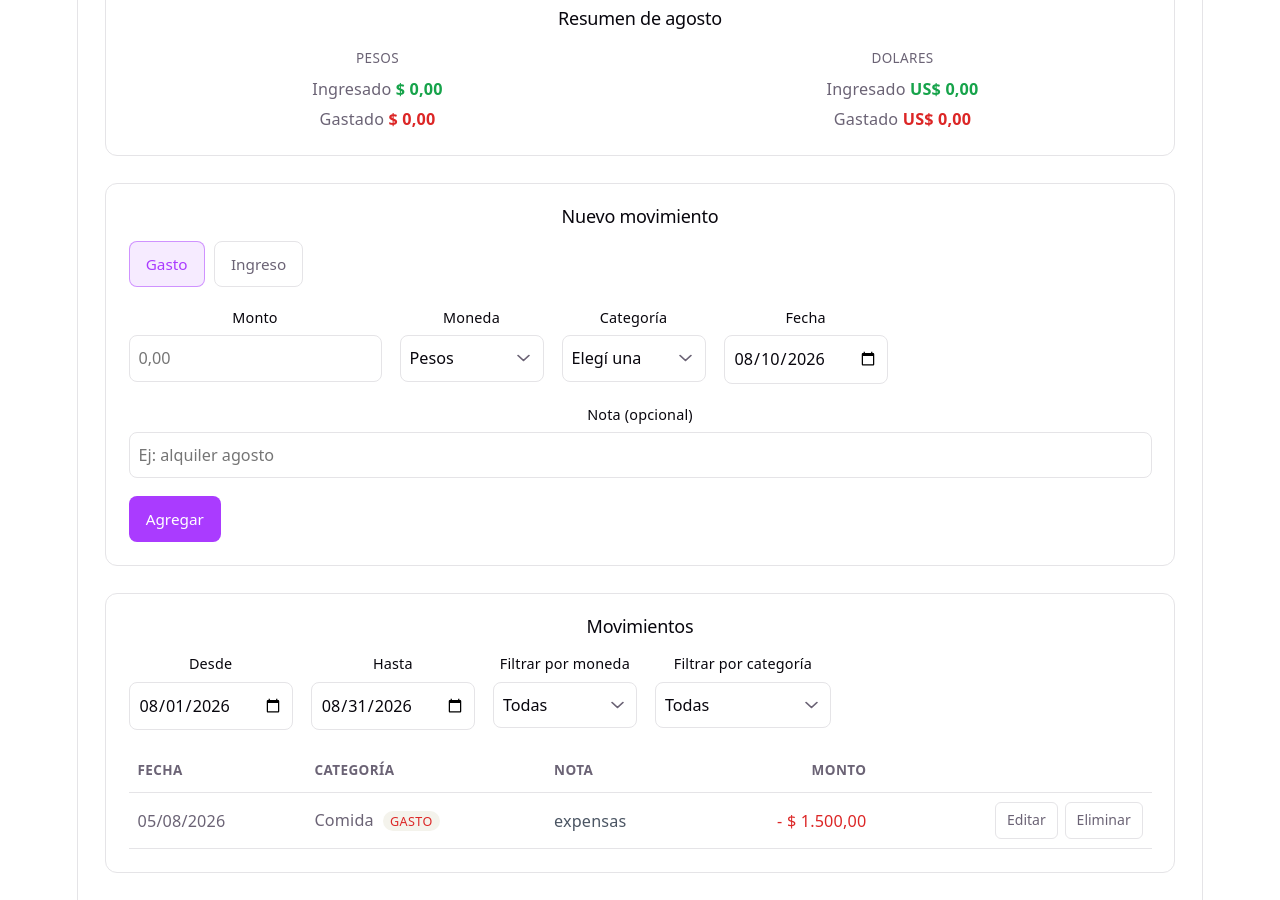
Test case: nota del movimiento (RF-33) › AC-53: editar carga la nota existente en el formulario
(page scrolled)
Expected: the heading "Nuevo movimiento" is shown, [562, 204, 718, 228]
Click the button "Editar" at [1026, 820], box [995, 802, 1058, 839]
(page scrolled)
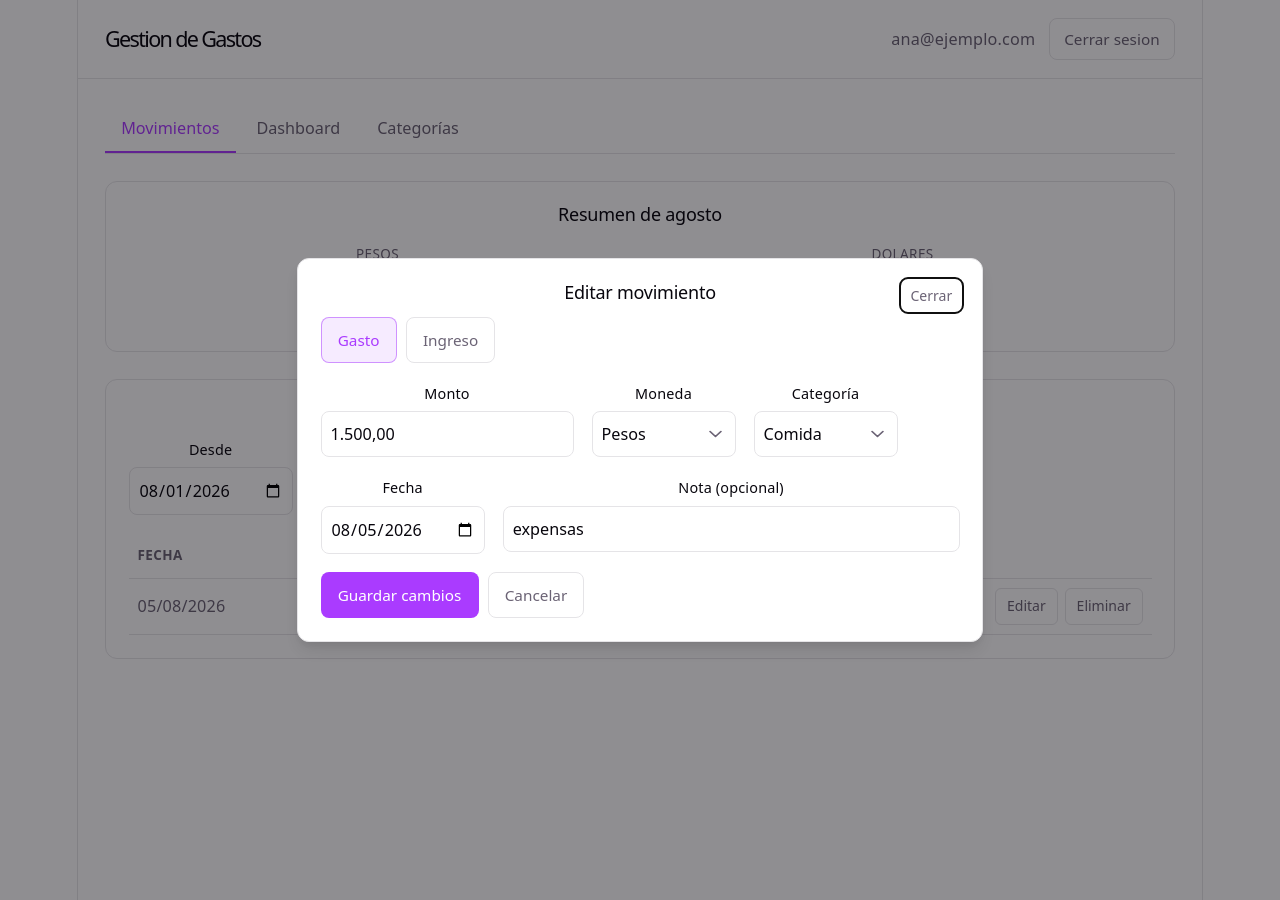
Result: the field labelled "Nota (opcional)" holds "expensas" at [503, 506, 960, 552]
